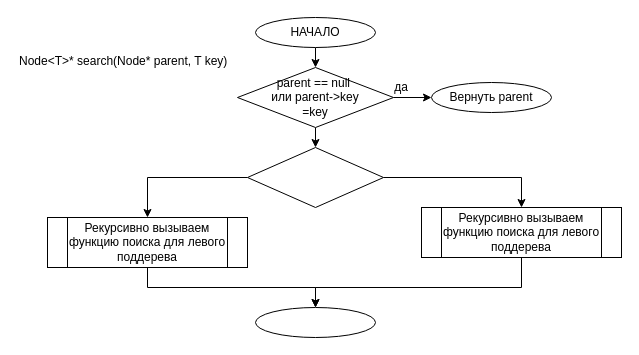
Some shapes in this 639 by 355 pixel diagram are drawn without their labels. Each missing label, with the centre of its shape:
"key < parent->key" belongs at point 315,177.
"КОНЕЦ" belongs at point 315,322.
